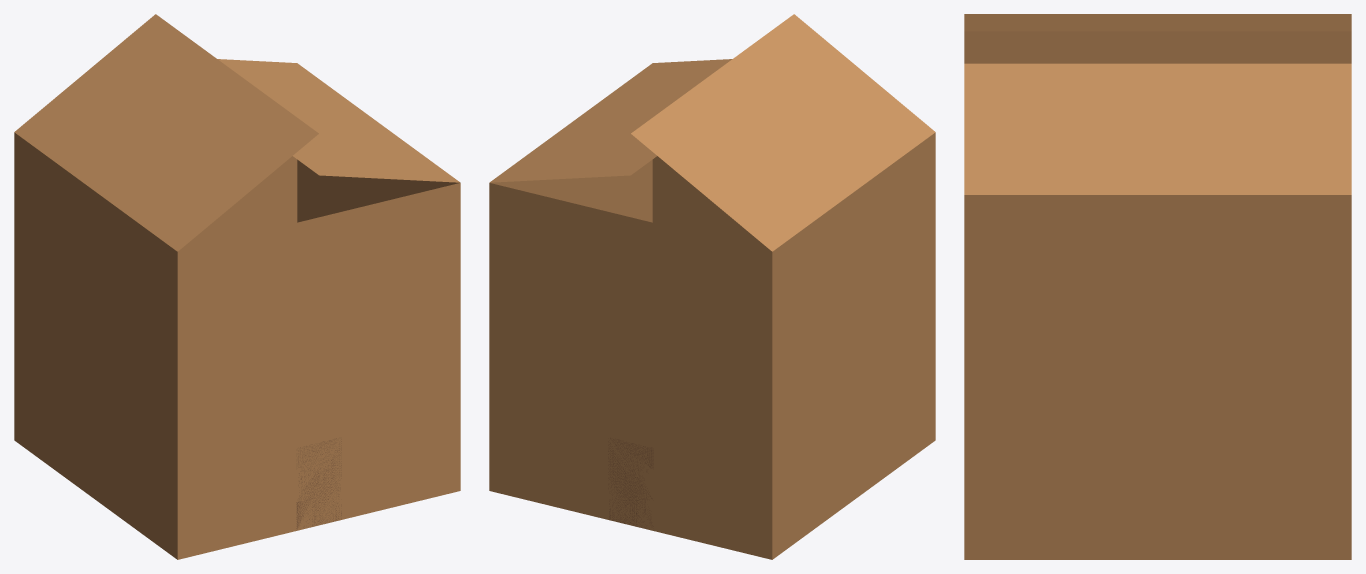
Rendered from kitCardboardBoxClosed.glb.
The picture shows the model from 3 angles, left to right: view 1: azimuth 30°, elevation 25°; view 2: azimuth 150°, elevation 25°; view 3: azimuth 270°, elevation 25°; orthographic projection. The views are drawn at different scales.
Parts seen in each view (by area): view 1: kitCardboardBoxClosed_wood, kitCardboardBoxClosed_woodDark; view 2: kitCardboardBoxClosed_wood, kitCardboardBoxClosed_woodDark; view 3: kitCardboardBoxClosed_wood.
Part boxes in pixels (box(x1,y1,x2,y2)): kitCardboardBoxClosed_wood: box(14, 14, 460, 559); kitCardboardBoxClosed_woodDark: box(296, 438, 341, 529); kitCardboardBoxClosed_wood: box(489, 14, 935, 559); kitCardboardBoxClosed_woodDark: box(608, 438, 653, 526); kitCardboardBoxClosed_wood: box(964, 14, 1351, 559).
Size of the model in its own units: 0.425 by 0.562 by 0.425.
